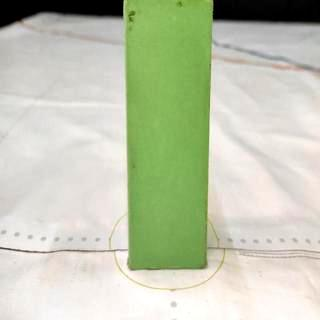greenbox: (119, 0, 211, 272)
